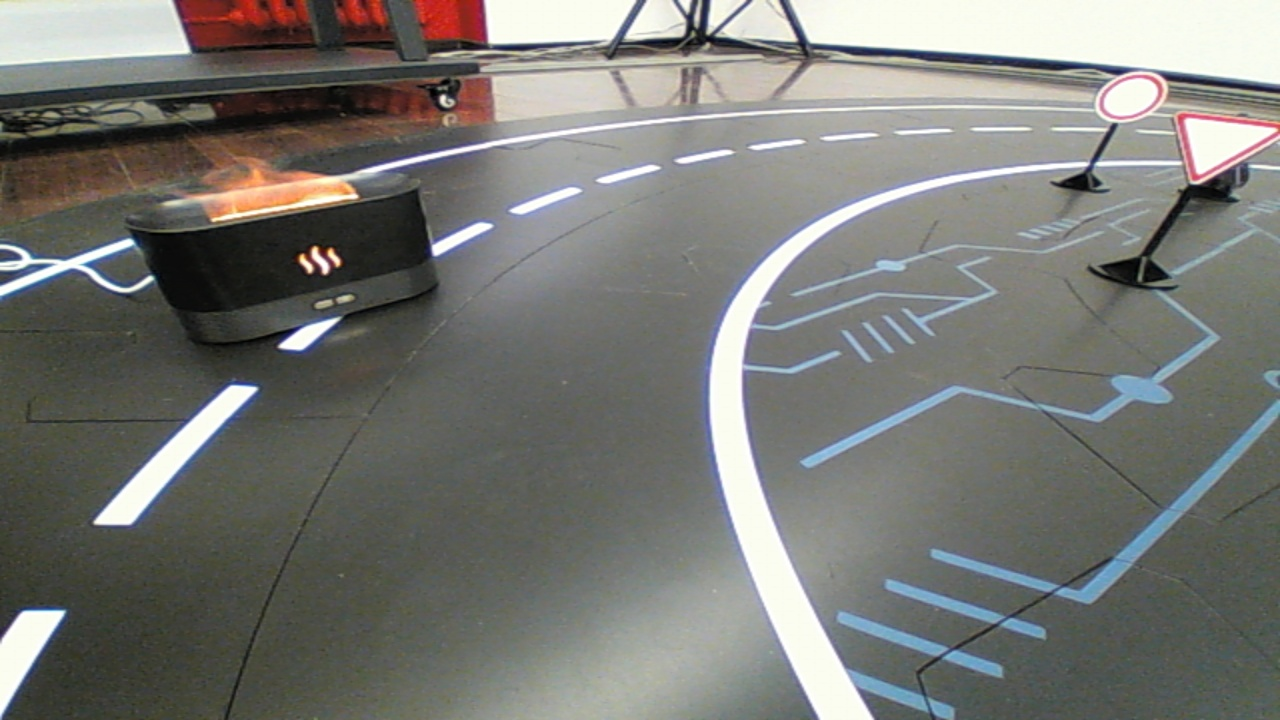Movement prohibition: (100, 157, 458, 360)
